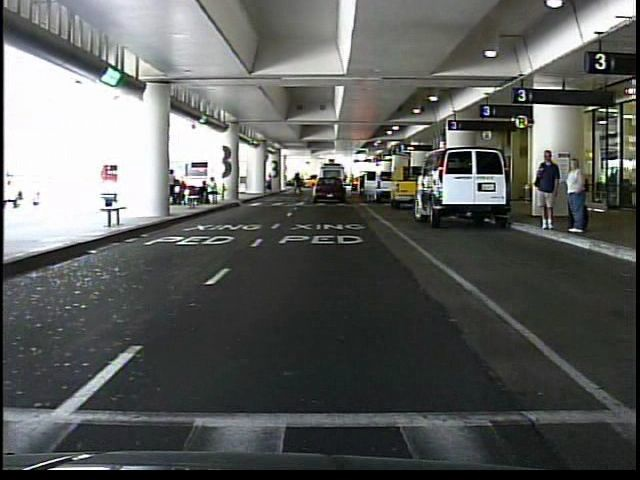person: (533, 146, 562, 234), (561, 153, 590, 238), (348, 168, 361, 198), (265, 169, 277, 193)
